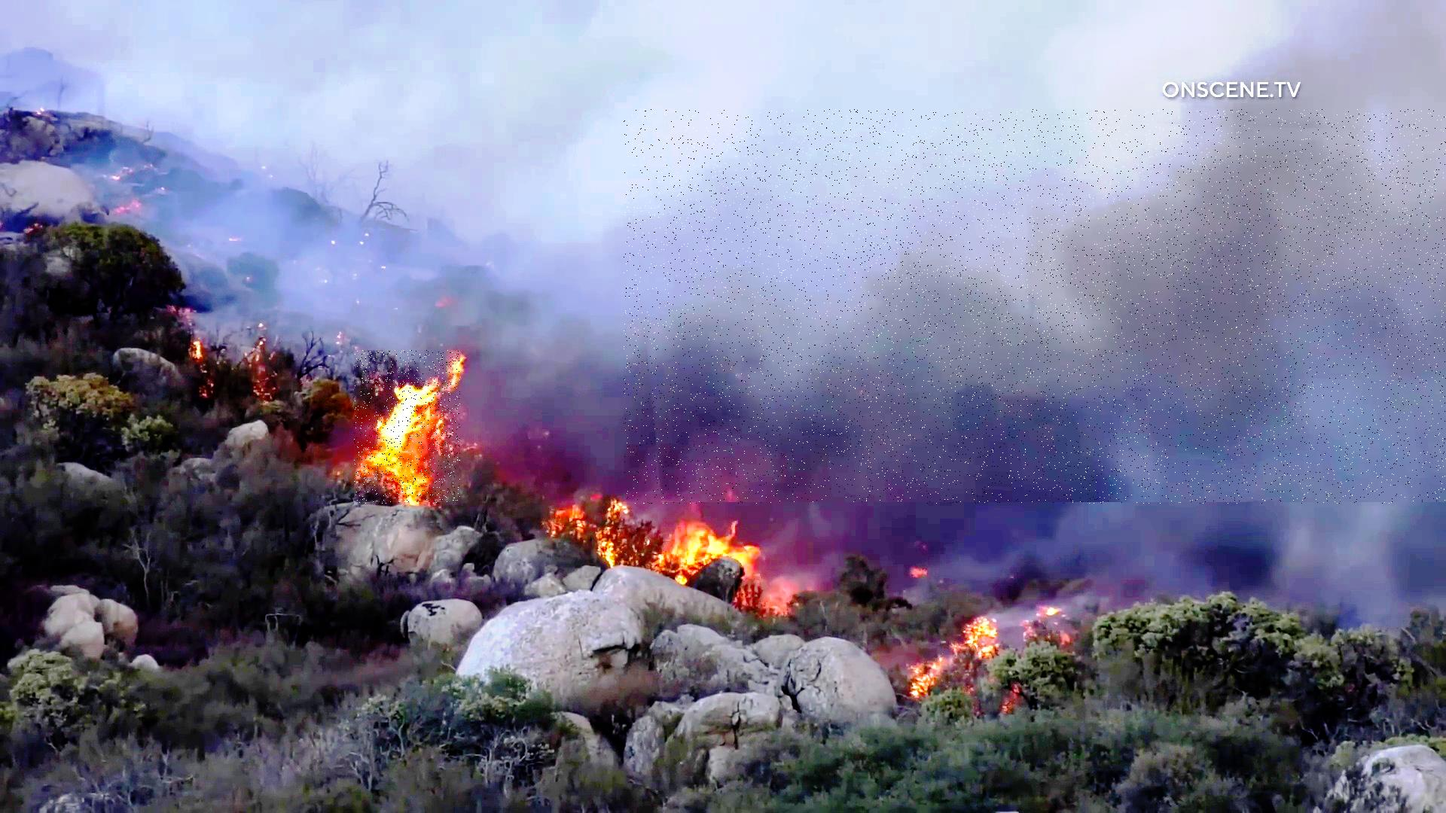fire: (354, 351, 460, 504)
smoke: (624, 110, 1446, 504)
